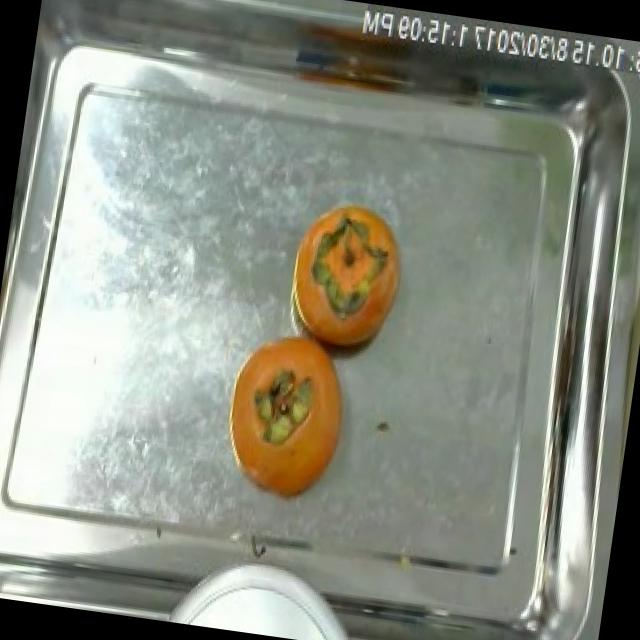Fruit: (203, 312, 369, 524), (280, 184, 420, 363)
